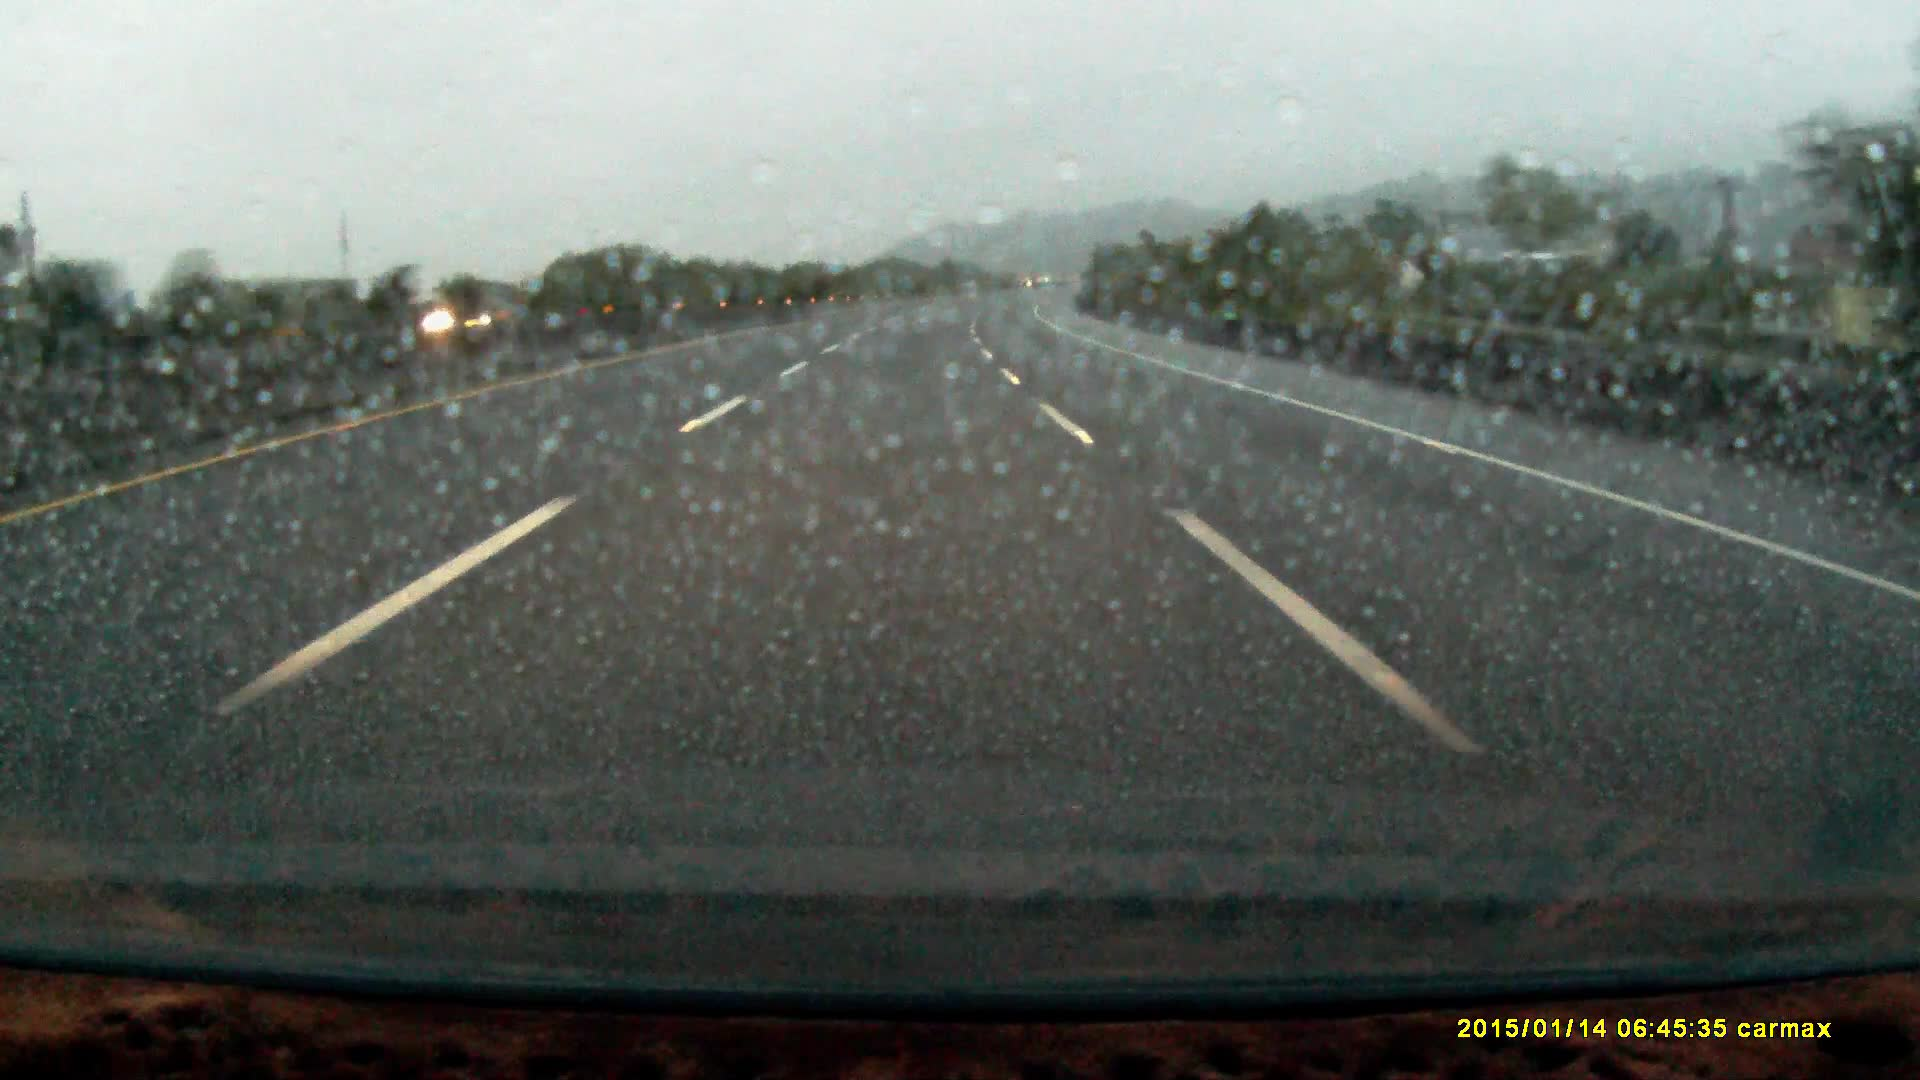vehicle: (419, 295, 513, 335)
